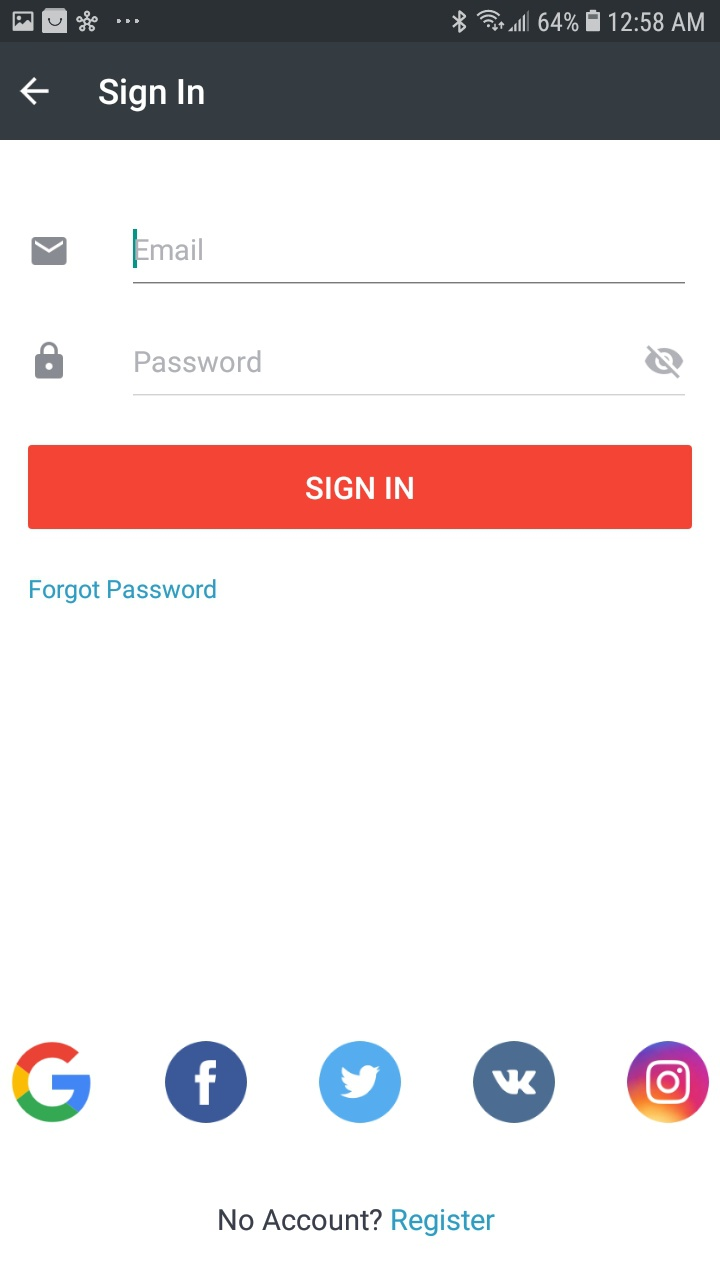EditText: (133, 229, 685, 286), (133, 345, 686, 398)
Icon: (165, 1041, 248, 1124), (319, 1041, 402, 1124), (12, 1041, 92, 1123), (644, 345, 684, 379), (35, 342, 64, 380), (32, 237, 68, 266), (20, 77, 50, 107)
Image: (473, 1041, 556, 1124), (626, 1041, 710, 1123)
Text: (219, 1208, 496, 1237), (30, 579, 217, 604), (99, 78, 205, 113), (135, 350, 262, 374), (135, 238, 204, 262)
TextButton: (28, 445, 693, 530)
UpperTaskBar: (1, 1, 720, 43)
